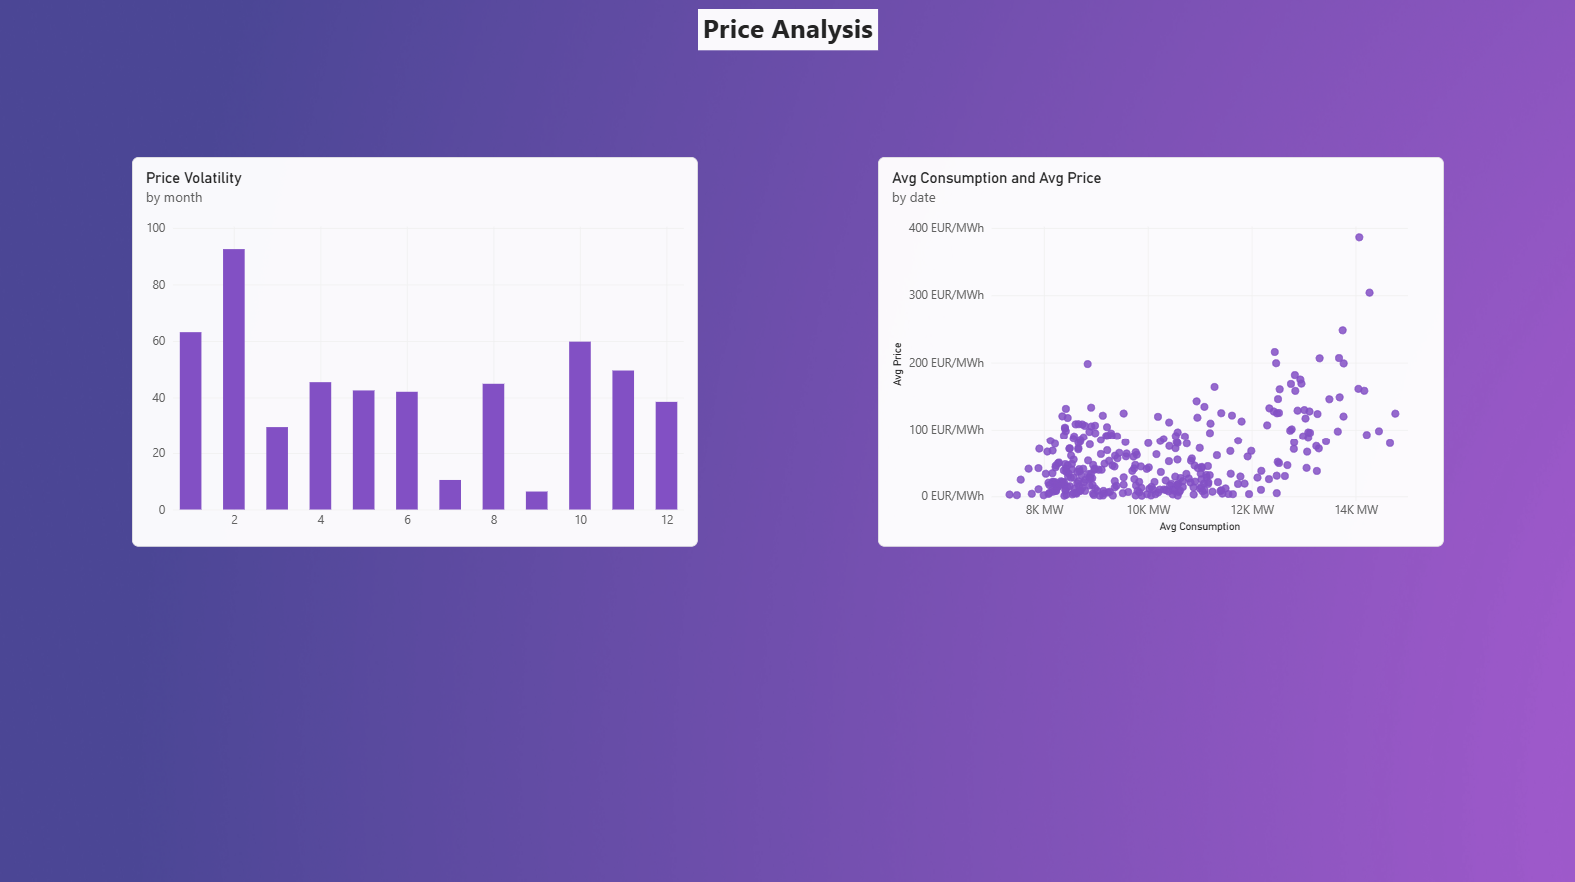

Layout of this report page (visuals, bound fields, positions):
{"tool":"powerbi","page":{"name":"Price Analysis","canvas":[1920,1080],"ordinal":2},"visuals":[{"type":"scatterChart","fields":{"Category":["dim_time.date"],"X":["fact_electricity.Avg Consumption"],"Y":["fact_electricity.Avg Price"]},"box":[1068.8,190.2,685,473],"z":1},{"type":"textbox","box":[851.2,10.7,217.6,49.9],"z":2},{"type":"clusteredColumnChart","fields":{"Category":["dim_time.month"],"Y":["fact_electricity.Price Volatility"]},"box":[166.4,190.2,685,473],"z":3}]}

Visuals, with their boxes in screenshot pixels (x1, y1, x2, y2), scaled from the page's 1920x1080 canvas onto the 1575x882 screenshot:
scatterChart - dim_time.date x fact_electricity.Avg Consumption: (877, 155, 1439, 542)
textbox: (698, 9, 877, 49)
clusteredColumnChart - dim_time.month x fact_electricity.Price Volatility: (136, 155, 698, 542)
